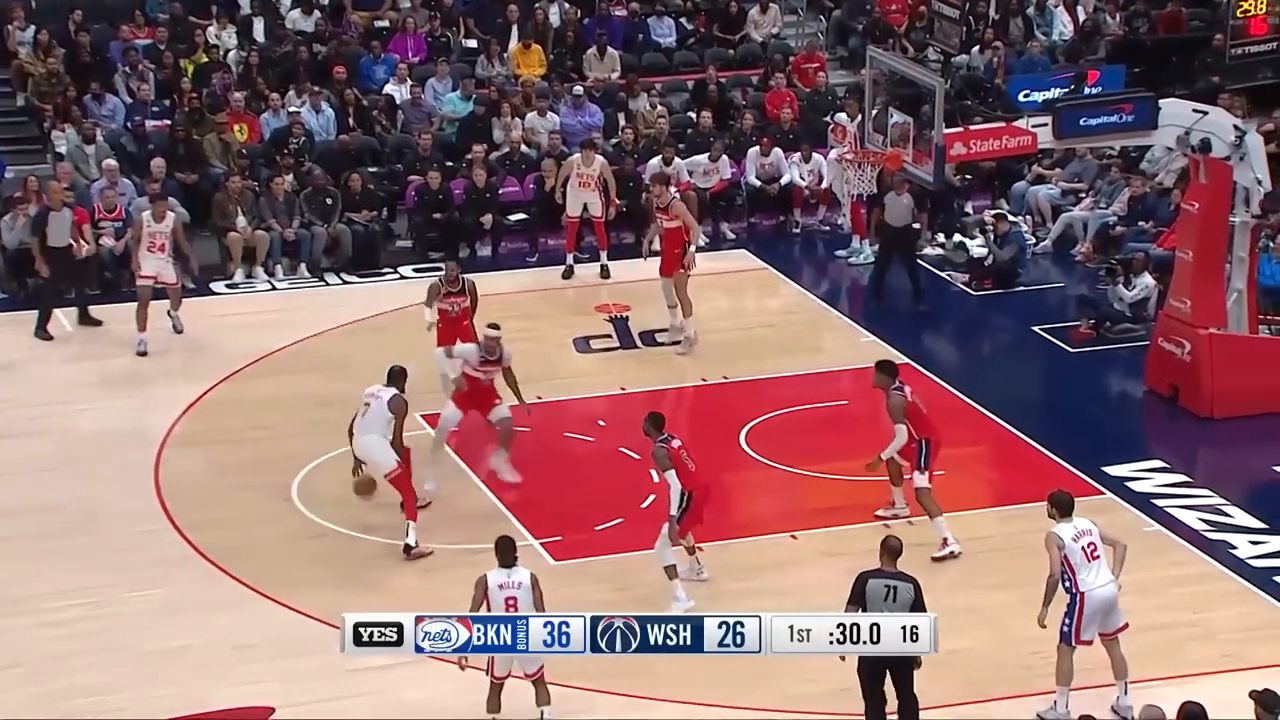ball: (348, 472, 383, 501)
net: (836, 148, 887, 197)
